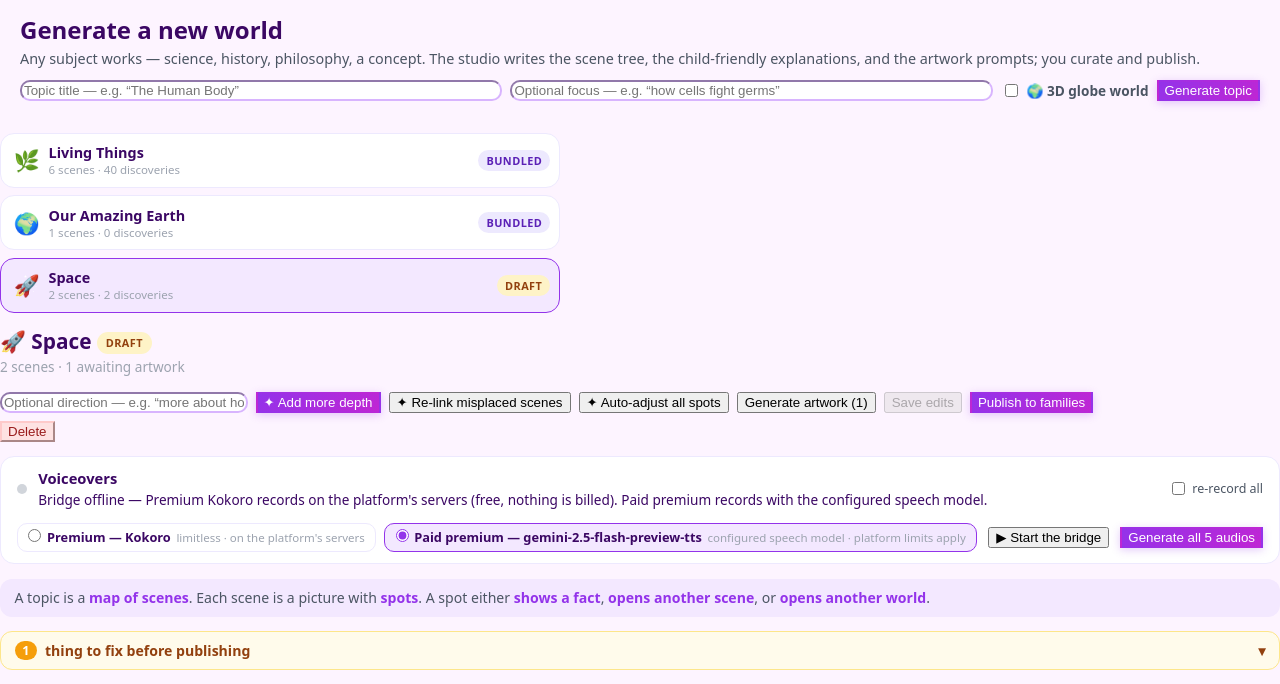
Test: WikidoStudio — plain-language editor › Deleting a topic › warns that files go too, then reports how many were removed
The width and height of the screenshot is (1280, 684).
Click the button with class "danger": (27, 431) left=0, top=421, right=54, bottom=442
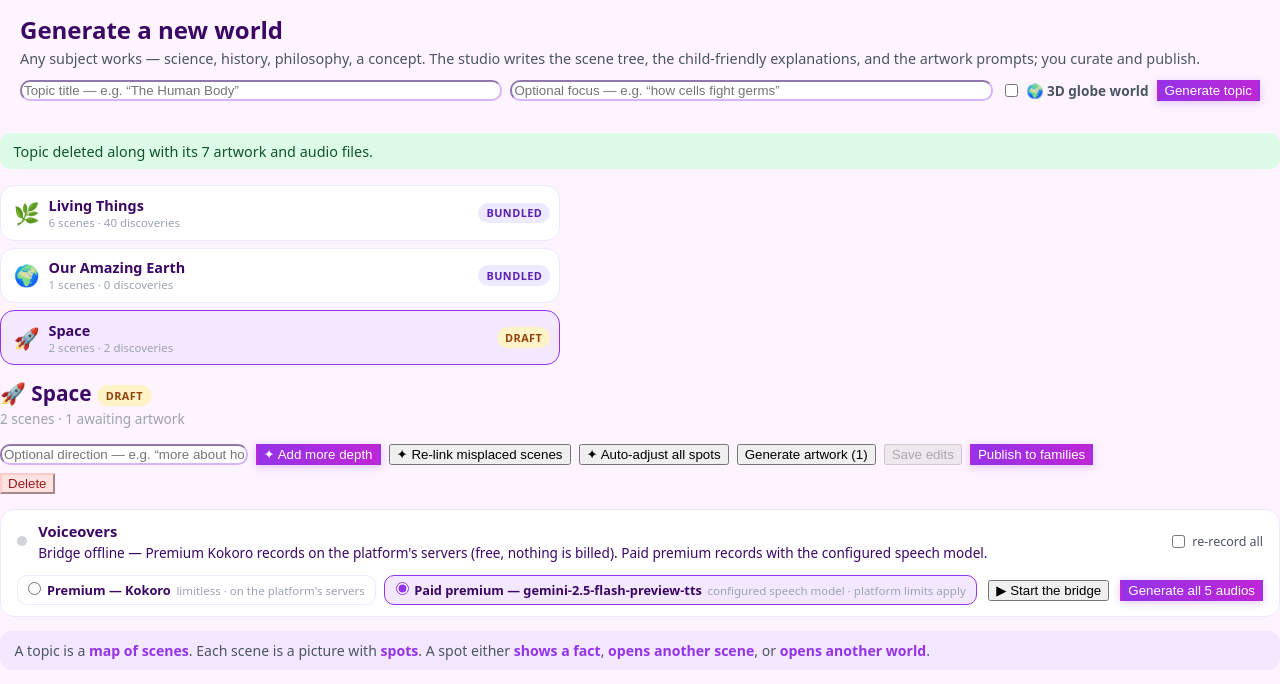
Result: the text with class "note" shows "along with its 7 artwork and audio files" at left=14, top=142, right=373, bottom=161
